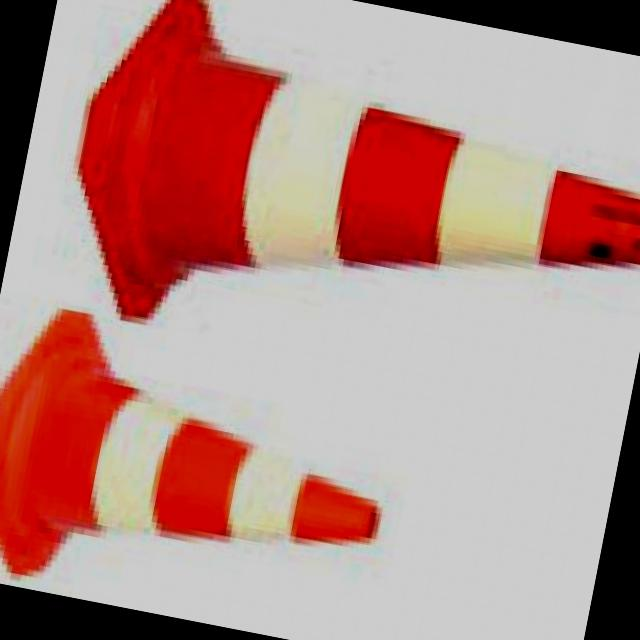cone: (38, 0, 640, 421), (0, 306, 412, 620)
